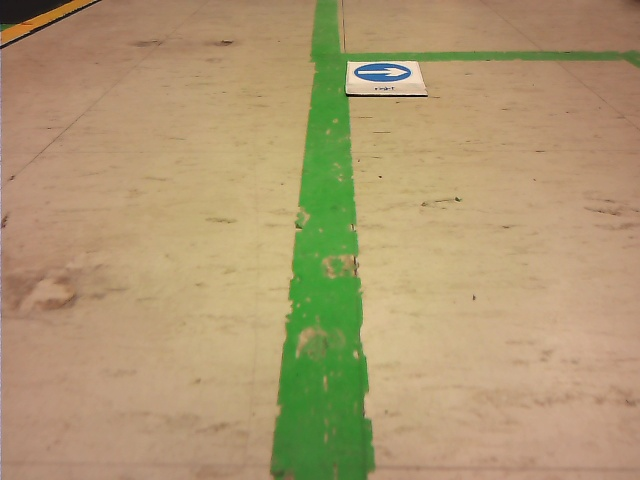TURN RIGHT: (355, 64, 410, 81)
